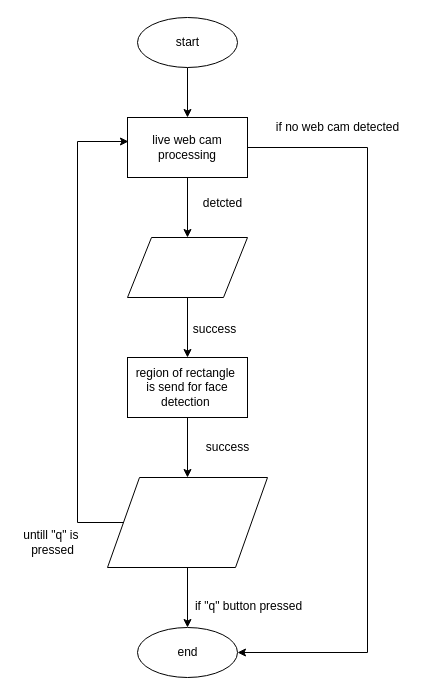
Some shapes in this 424 by 695 pixel diagram are drawn without their labels. The shapes that lost their labels are listed below. From the top down, each one's centre as x and y in pixels, then its label:
At point (187, 267): "draw rectangle on window".
At point (187, 522): "face detected for one frame and rectangle boundary is drawn".
